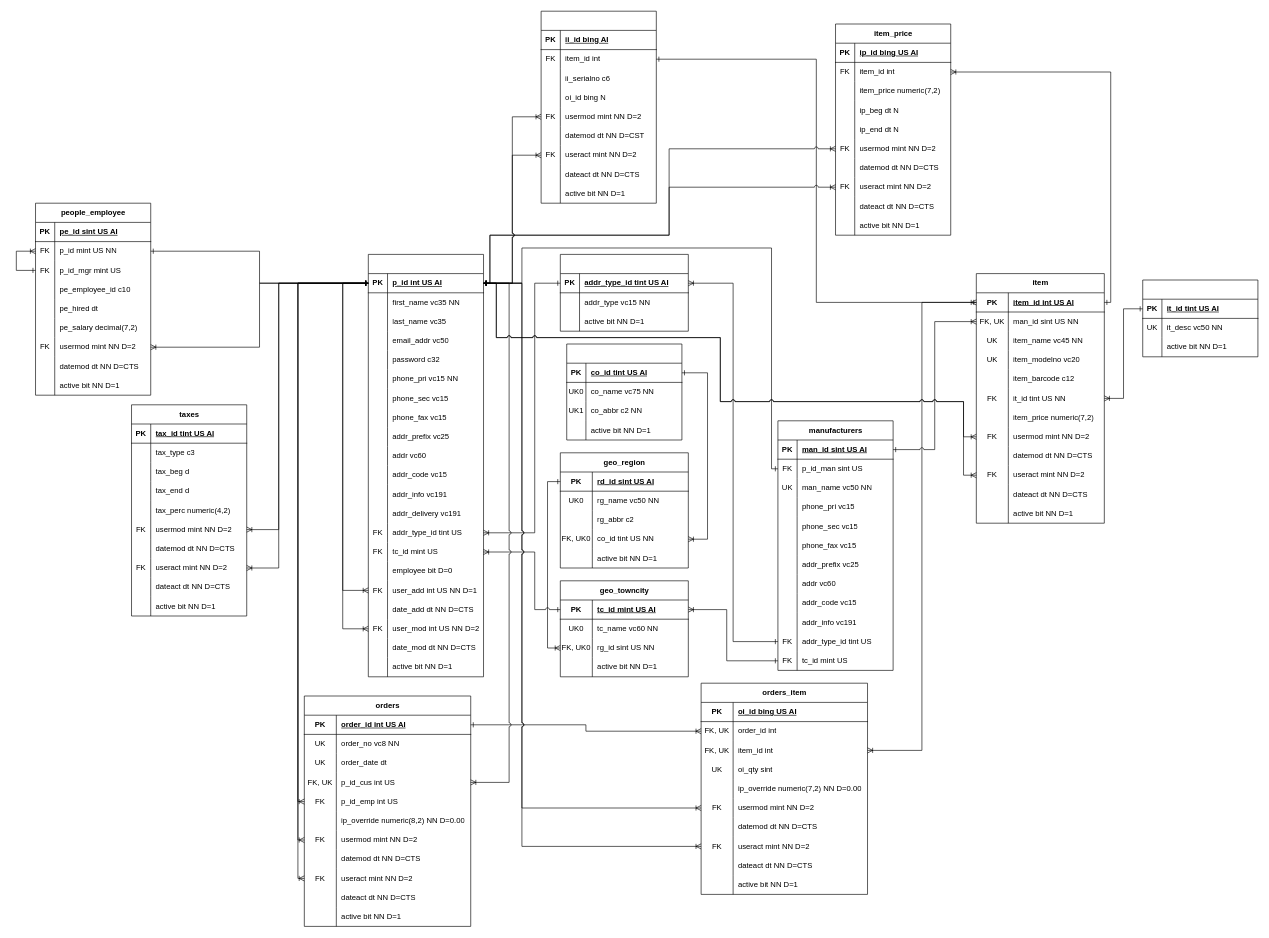
The diagram is 1269 pixels wide and 938 high, and some of its shapes have lost their labels. Here are the shapes that lost their labels. From the top down, the box of each, then its label:
(540, 11, 656, 203): item_inventory
(560, 254, 688, 331): geo_address_type
(1142, 279, 1258, 357): item_type
(566, 343, 682, 440): geo_country
(368, 254, 484, 677): people
